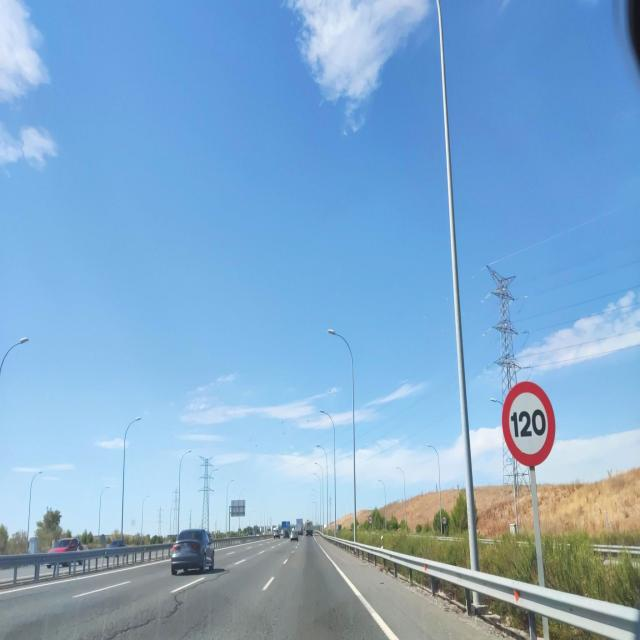car: (170, 527, 215, 575), (47, 536, 85, 554), (290, 530, 298, 542)
